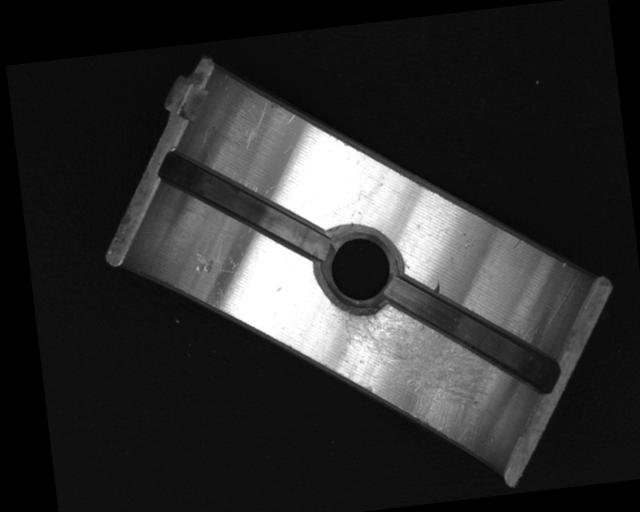bruise: (191, 249, 217, 276), (430, 279, 442, 295)
gap: (382, 259, 562, 409), (159, 136, 328, 276)
hole: (310, 218, 406, 316)
scratch: (327, 282, 499, 452)
